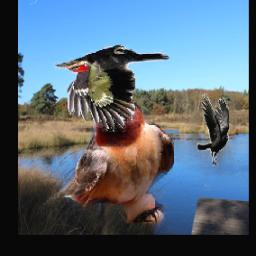Crow: (197, 93, 229, 166)
Swallow: (59, 98, 175, 224)
Woodpecker: (53, 44, 170, 134)
